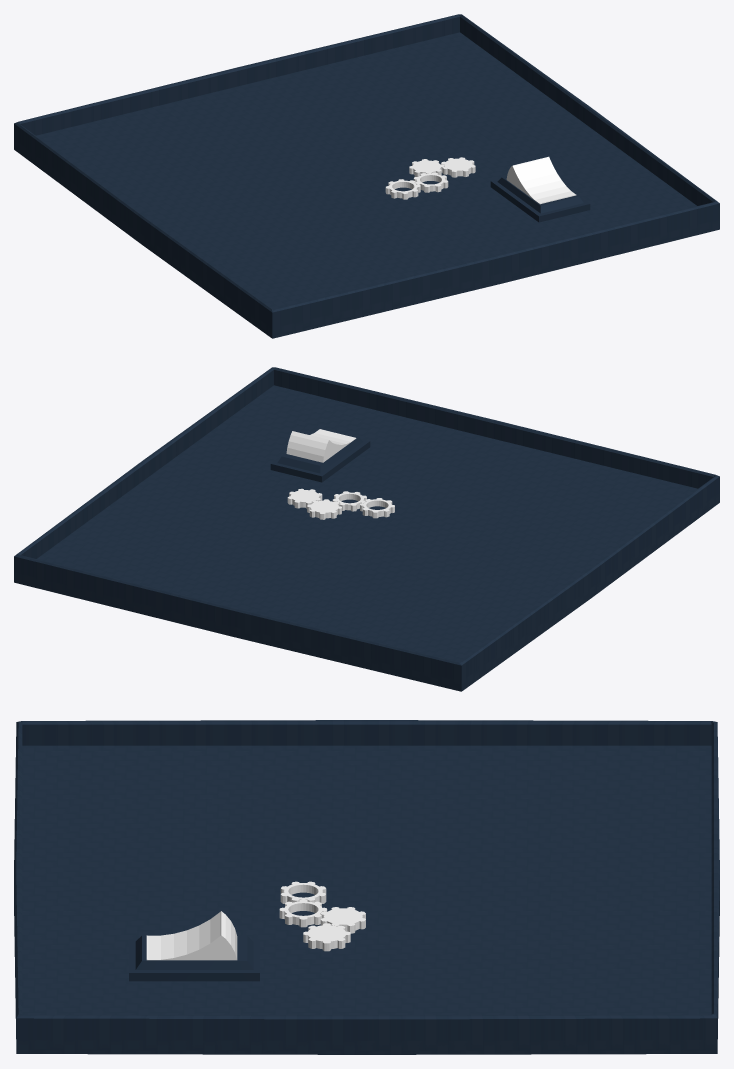
File: GearLow4.glb
The picture shows the model from 3 angles, top to bottom: view 1: azimuth 30°, elevation 25°; view 2: azimuth 150°, elevation 25°; view 3: azimuth 270°, elevation 25°; orthographic projection. The views are drawn at different scales.
Visible parts, largest first — view 1: Plane, Button, Gear4, Gear2; view 2: Plane, Button, Gear3, Gear2; view 3: Plane, Button, Gear4, Gear1, Gear3, Gear2.
Boxes of the visible parts, left/top/right/bottom form: Plane: left=14, top=14, right=719, bottom=338; Button: left=506, top=156, right=576, bottom=204; Gear4: left=441, top=157, right=475, bottom=177; Gear2: left=385, top=179, right=420, bottom=199; Plane: left=14, top=367, right=719, bottom=691; Button: left=286, top=429, right=356, bottom=462; Gear3: left=307, top=499, right=341, bottom=519; Gear2: left=360, top=498, right=394, bottom=518; Plane: left=14, top=720, right=719, bottom=1054; Button: left=146, top=911, right=237, bottom=960; Gear4: left=303, top=923, right=350, bottom=951; Gear1: left=279, top=899, right=327, bottom=927; Gear3: left=320, top=907, right=365, bottom=933; Gear2: left=280, top=881, right=326, bottom=903.
Size of the model in its own units: 32.72 by 3.76 by 32.72.
Materials: 6 (1 with a texture image).
